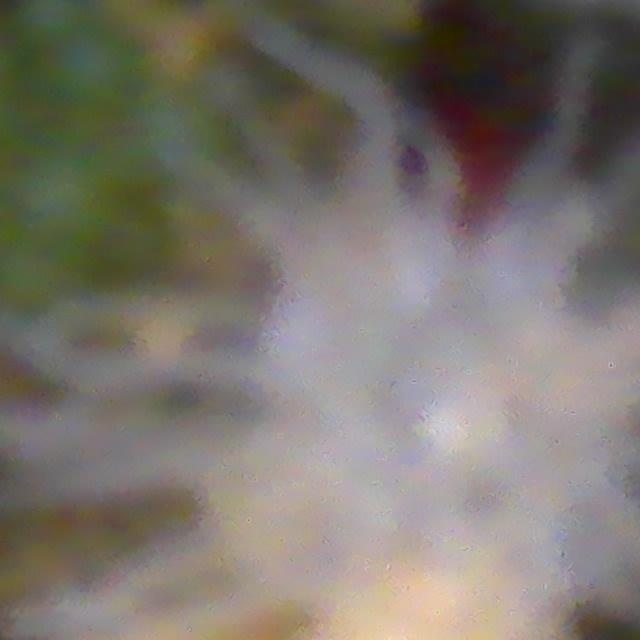SeaGrape: (16, 0, 91, 51)
